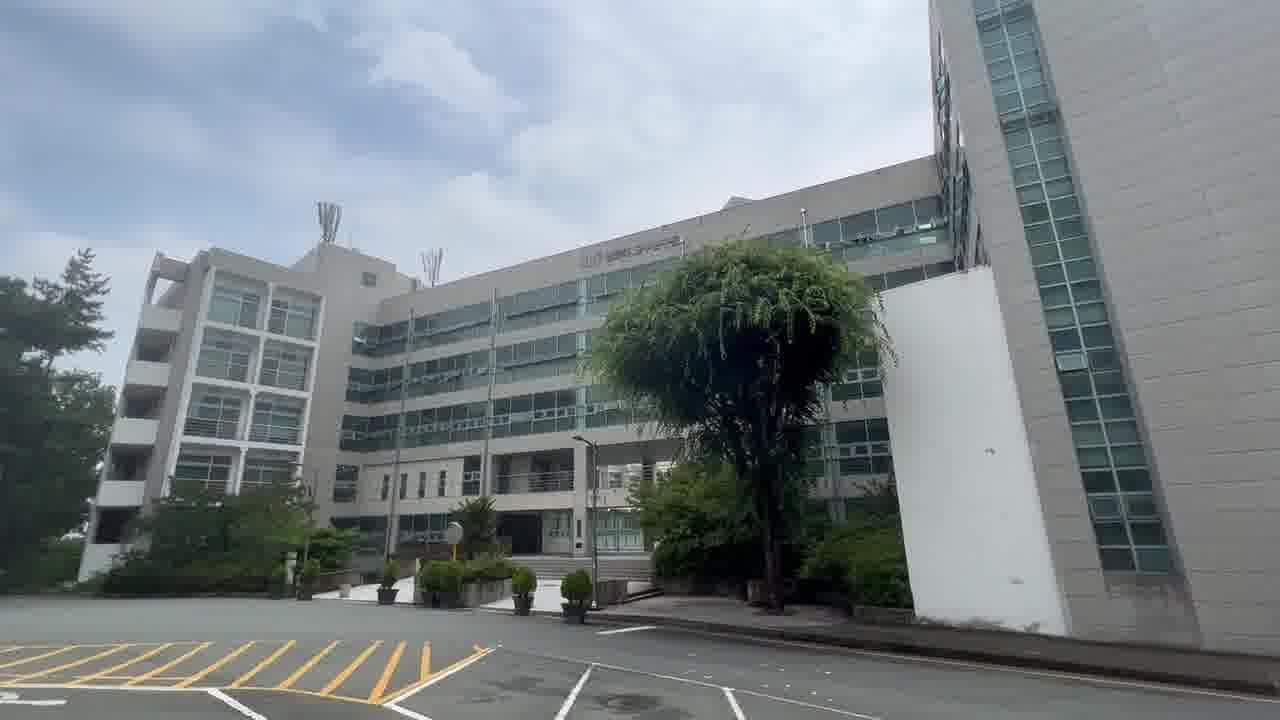building: (124, 232, 600, 511)
